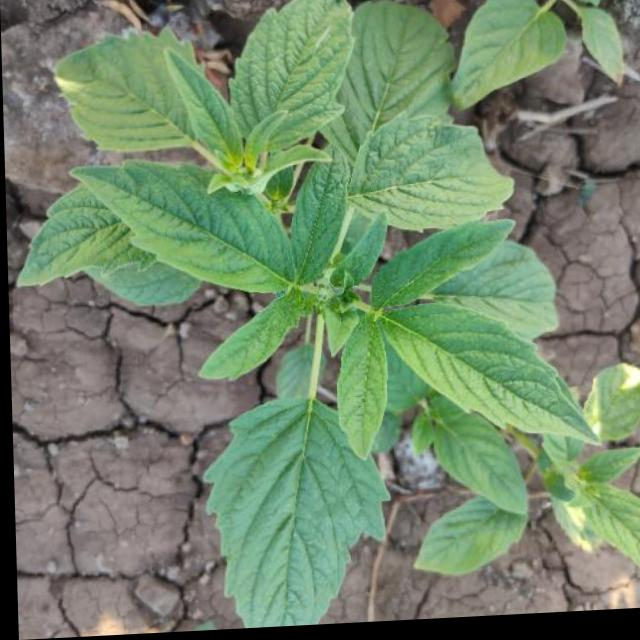crop: (42, 7, 598, 597)
